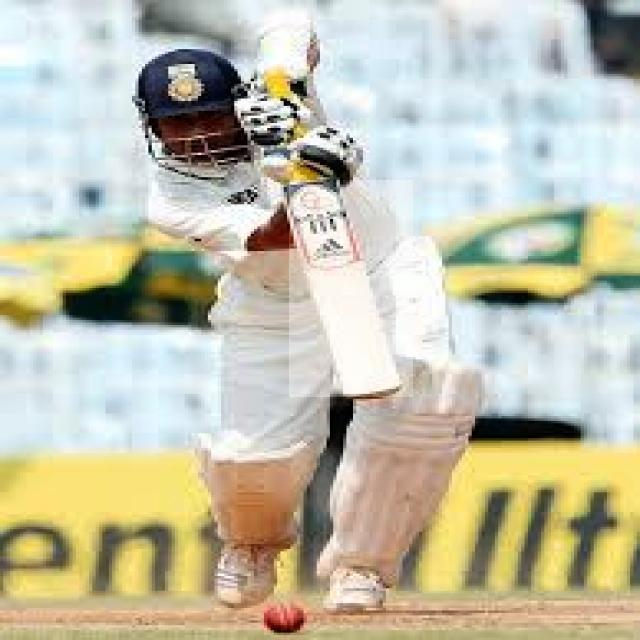bat: (280, 183, 415, 402)
toe: (338, 388, 412, 404)
